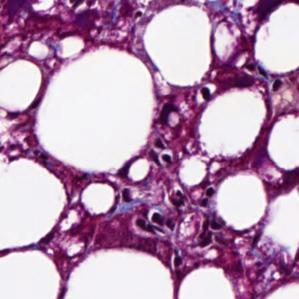inflammation: (129, 187, 193, 238), (157, 85, 220, 132), (185, 216, 232, 254)
